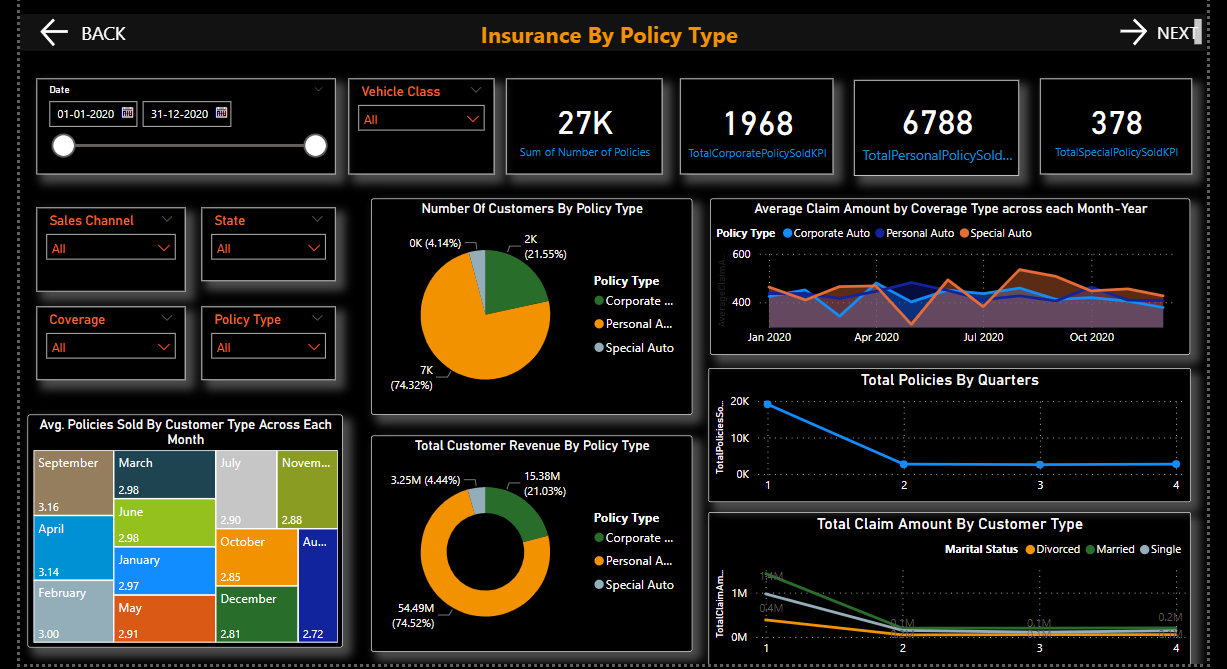

The page's visual inventory and layout, read from the dashboard file:
{"tool":"powerbi","page":{"name":"Insurance By Policy Type","canvas":[1280,720],"ordinal":3},"visuals":[{"type":"textbox","box":[0,19.1,1279.5,39.7],"z":0},{"type":"card","fields":{"Values":["Sum(AutoInsurance.Number of Policies)"]},"box":[524.5,89,168.5,103.3],"z":1000},{"type":"card","fields":{"Values":["AutoInsurance.TotalCorporatePolicySoldKPI"]},"box":[712.1,89,165.3,103.3],"z":2000},{"type":"card","fields":{"Values":["AutoInsurance.TotalPersonalPolicySoldKPI"]},"box":[899.6,90.6,178,103.3],"z":3000},{"type":"card","fields":{"Values":["AutoInsurance.TotalSpecialPolicySoldKPI"]},"box":[1099.9,89,163.7,103.3],"z":4000},{"type":"pieChart","title":"Number Of Customers By Policy Type","fields":{"Y":["AutoInsurance.TotalCustomersKPI"],"Series":["AutoInsurance.Policy Type"]},"box":[378.3,217.7,346.5,233.6],"z":5000},{"type":"treemap","title":"Avg. Policies Sold By Customer Type Across Each Month","fields":{"Group":["Date_Table.Month Name"],"Values":["AutoInsurance.AveragePoliciesSoldKPI"]},"box":[7.9,451.4,340.1,251.1],"z":6000},{"type":"lineChart","title":"Total Policies By Quarters","fields":{"Category":["Date_Table.Quarter"],"Y":["AutoInsurance.TotalPoliciesSoldKPI"]},"box":[742.3,400.5,519.7,144.6],"z":7000},{"type":"slicer","fields":{"Values":["AutoInsurance.Coverage"]},"box":[17.5,335.4,160.5,79.5],"z":8000},{"type":"slicer","fields":{"Values":["AutoInsurance.Policy Type"]},"box":[195.5,335.4,144.6,79.5],"z":9000},{"type":"slicer","fields":{"Values":["AutoInsurance.State"]},"box":[195.5,228.9,144.6,79.5],"z":10000},{"type":"slicer","fields":{"Values":["AutoInsurance.Vehicle Class"]},"box":[354.4,89,157.4,103.3],"z":11000},{"type":"actionButton","box":[1181.1,19.4,93.8,38.8],"z":12000},{"type":"actionButton","box":[17.5,19.1,100.1,39.7],"z":13000},{"type":"slicer","fields":{"Values":["Date_Table.Date"]},"box":[17.5,89,322.6,103.3],"z":14000},{"type":"slicer","fields":{"Values":["AutoInsurance.Sales Channel"]},"box":[17.5,228.9,160.5,90.6],"z":15000},{"type":"donutChart","title":"Total Customer Revenue By Policy Type","fields":{"Y":["Sum(AutoInsurance.Customer Lifetime Value)"],"Series":["AutoInsurance.Policy Type"]},"box":[378.3,473.6,346.5,233.6],"z":16000},{"type":"lineChart","title":"Total Claim Amount By Customer Type","fields":{"Category":["Date_Table.Quarter"],"Y":["AutoInsurance.TotalClaimAmountsKPI"],"Series":["AutoInsurance.Marital Status"]},"box":[742.3,556.3,519.7,165.3],"z":17000},{"type":"areaChart","title":"Average Claim Amount by Coverage Type across each Month-Year","fields":{"Y":["AutoInsurance.AverageClaimAmountKPI"],"Series":["AutoInsurance.Policy Type"],"Category":["Date_Table.Date.Variation.Date Hierarchy.Year","Date_Table.Date.Variation.Date Hierarchy.Quarter","Date_Table.Date.Variation.Date Hierarchy.Month"]},"box":[743.8,217.7,518.1,168.5],"z":18000}]}

Visuals, with their boxes on the page's 1280x720 design canvas (x1, y1, x2, y2). These are canvas units, not pixel positions in the 1227x669 screenshot, which may show the page scaled, cropped or inside an application window:
textbox: 0:19:1280:59
card - Sum(AutoInsurance.Number of Policies): 524:89:693:192
card - AutoInsurance.TotalCorporatePolicySoldKPI: 712:89:877:192
card - AutoInsurance.TotalPersonalPolicySoldKPI: 900:91:1078:194
card - AutoInsurance.TotalSpecialPolicySoldKPI: 1100:89:1264:192
"Number Of Customers By Policy Type" pieChart: 378:218:725:451
"Avg. Policies Sold By Customer Type Across Each Month" treemap: 8:451:348:702
"Total Policies By Quarters" lineChart: 742:400:1262:545
slicer - AutoInsurance.Coverage: 18:335:178:415
slicer - AutoInsurance.Policy Type: 196:335:340:415
slicer - AutoInsurance.State: 196:229:340:308
slicer - AutoInsurance.Vehicle Class: 354:89:512:192
actionButton: 1181:19:1275:58
actionButton: 18:19:118:59
slicer - Date_Table.Date: 18:89:340:192
slicer - AutoInsurance.Sales Channel: 18:229:178:320
"Total Customer Revenue By Policy Type" donutChart: 378:474:725:707
"Total Claim Amount By Customer Type" lineChart: 742:556:1262:722
"Average Claim Amount by Coverage Type across each Month-Year" areaChart: 744:218:1262:386
